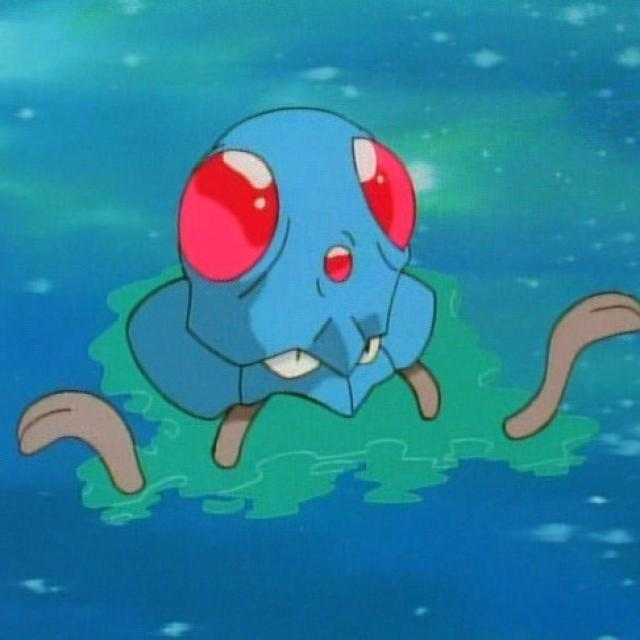Tentacool: (158, 101, 454, 470)
